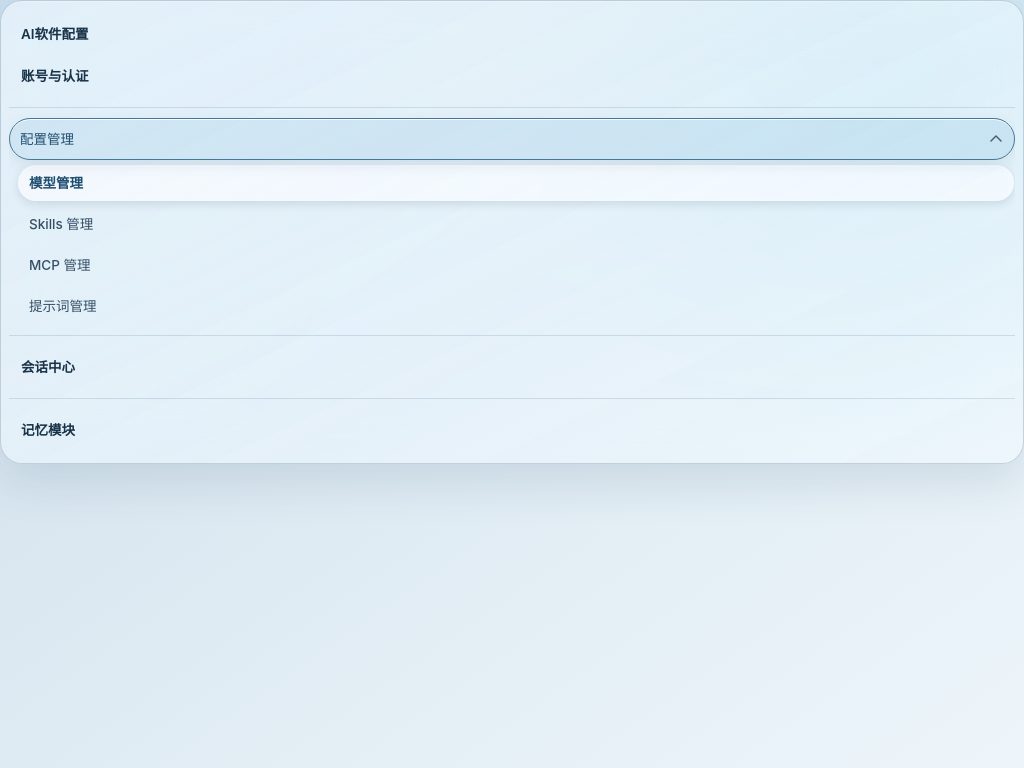
Scenario: SideNavigation › keeps one active lens when an active configuration group collapses
Check: the number of elements with test id "selection-lens" is 1, box [18,165,1014,201]
Click the button "配置管理": (47, 139) [9,118,1015,160]
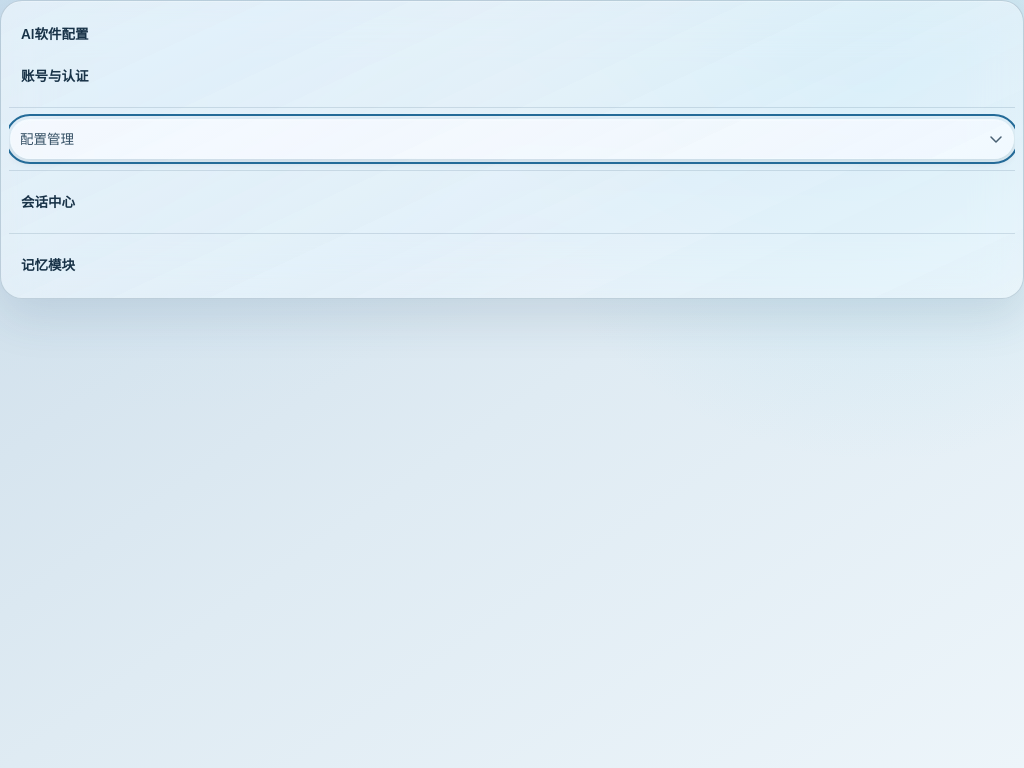
Check: the number of elements with test id "selection-lens" is 1, box [10,119,1014,159]
Check: the button "配置管理" is collapsed, box [9,118,1015,160]
Check: the list with test id "configuration-management-items" is gone
